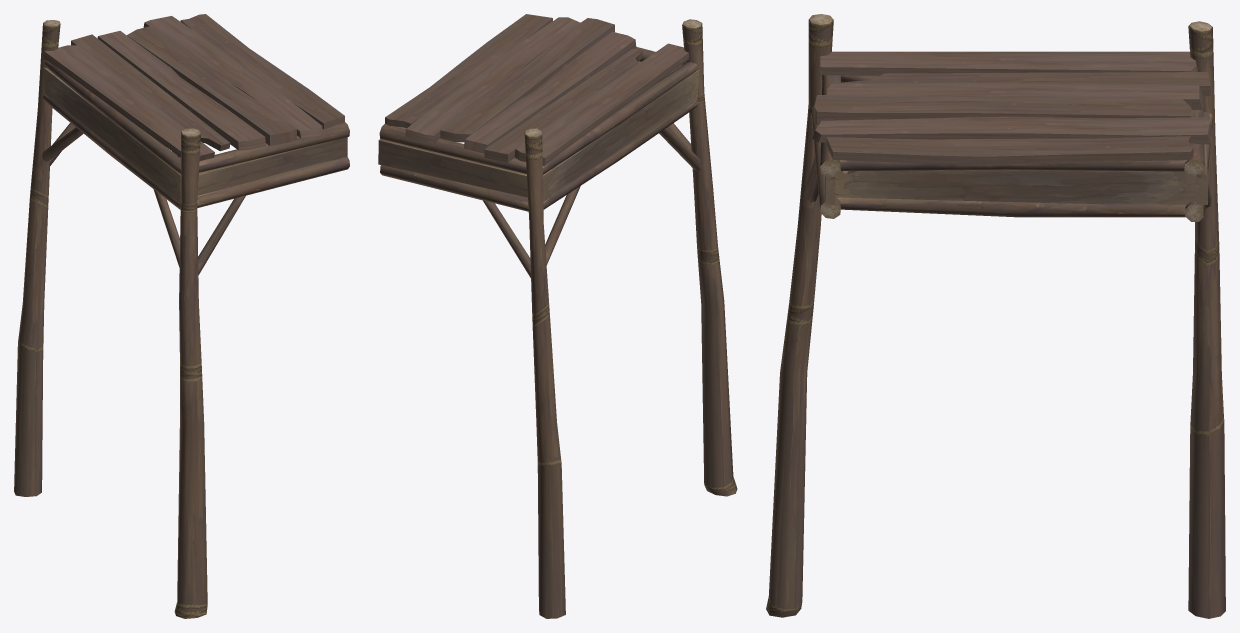
Rendered from Area_MdBuild_Wharf04.fbx.
The picture shows the model from 3 angles, left to right: view 1: azimuth 30°, elevation 25°; view 2: azimuth 150°, elevation 25°; view 3: azimuth 270°, elevation 25°; orthographic projection. The views are drawn at different scales.
Parts seen in each view (by area): view 1: Area_MdBuild_Wharf04_Lod0; view 2: Area_MdBuild_Wharf04_Lod0; view 3: Area_MdBuild_Wharf04_Lod0.
Part boxes in pixels (<box>): Area_MdBuild_Wharf04_Lod0: <box>14,14,349,618</box>; Area_MdBuild_Wharf04_Lod0: <box>378,14,737,618</box>; Area_MdBuild_Wharf04_Lod0: <box>766,14,1225,618</box>.
Bounding box in the file's own units: 39.17 × 92.3 × 63.99.
Materials: 2 (2 with a texture image).
